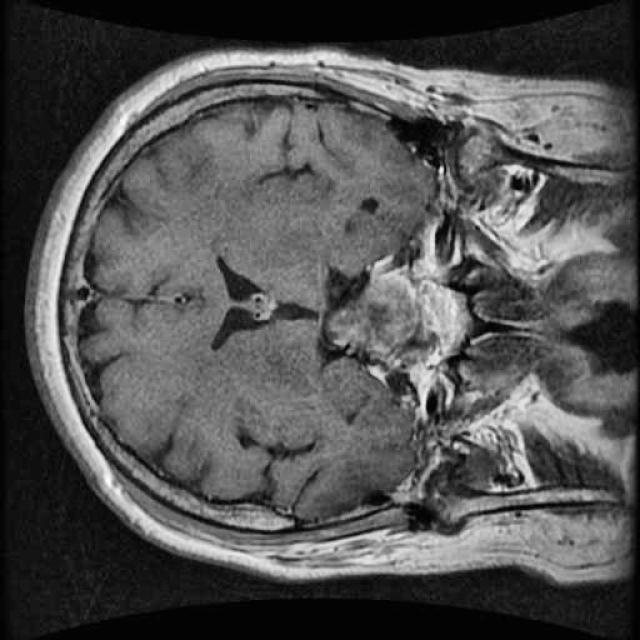Tumor: (314, 254, 438, 388)
